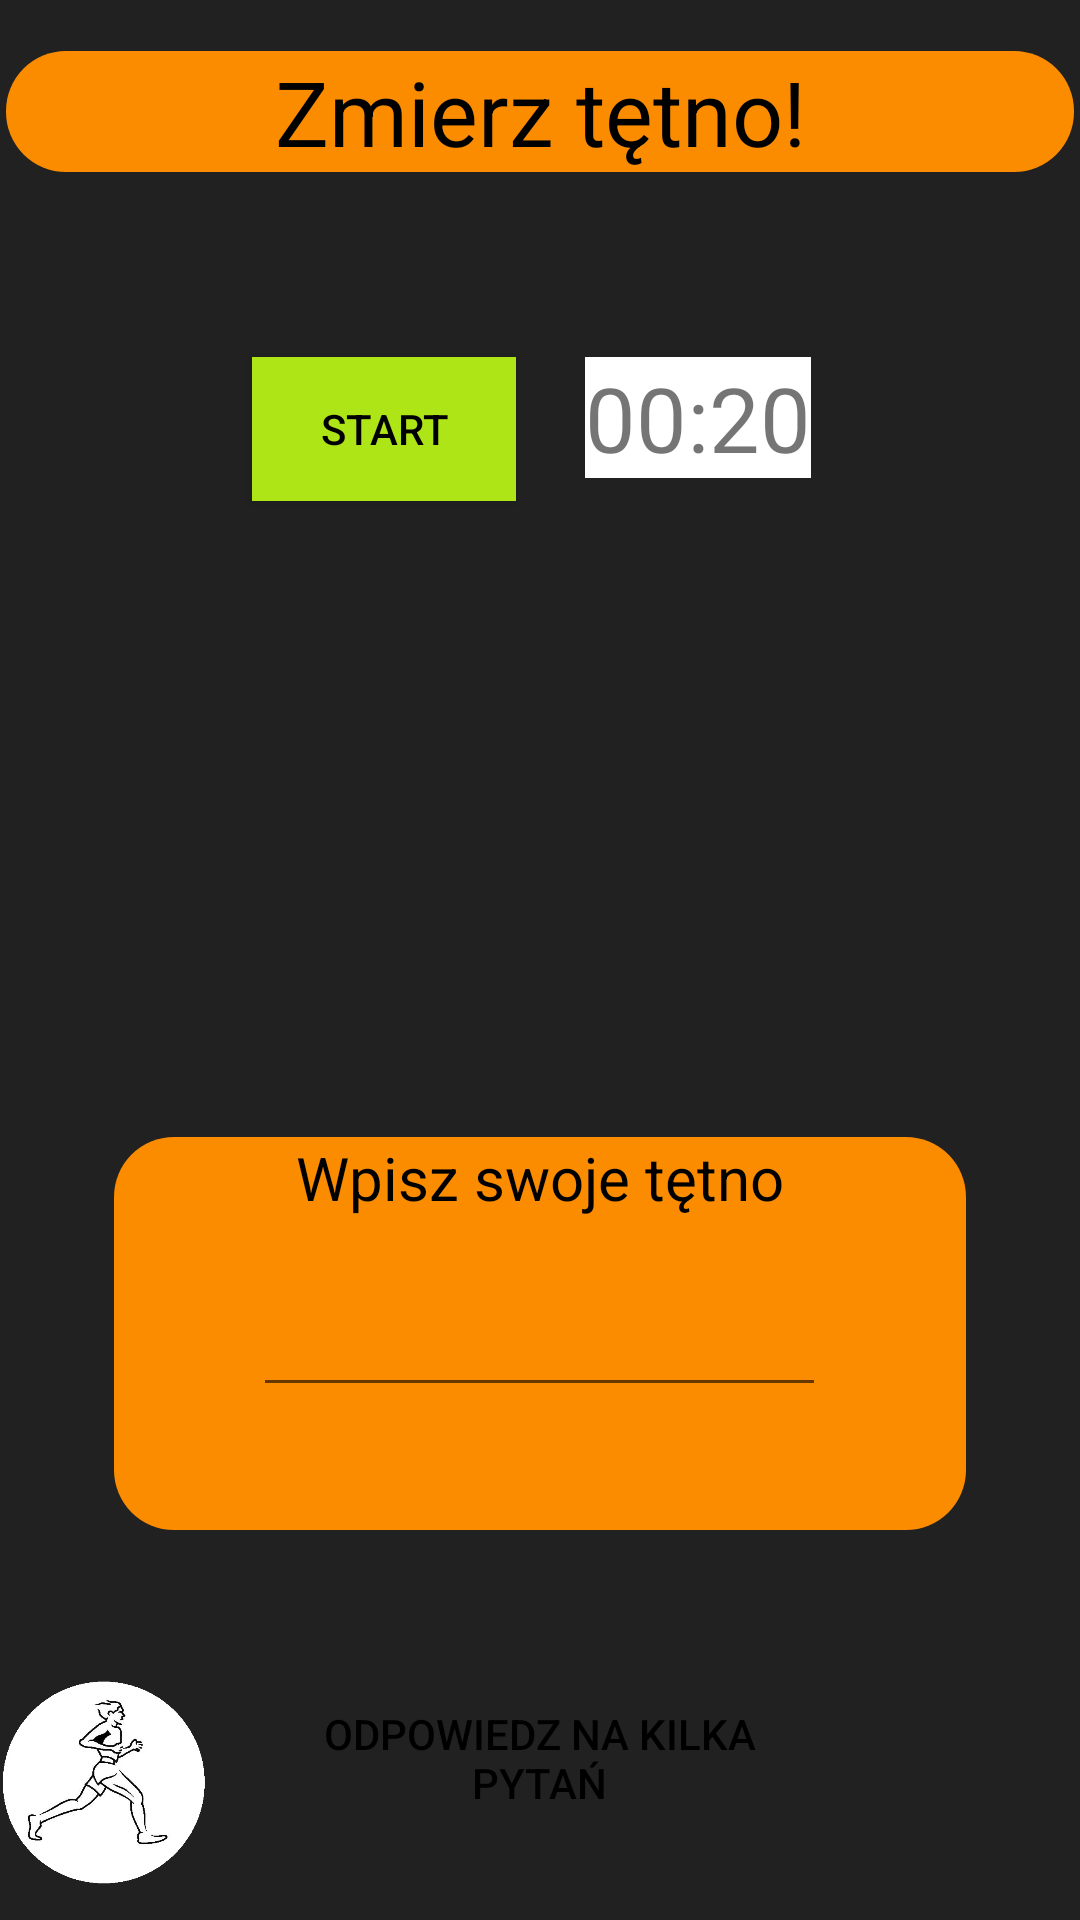

Icons on this 1080 x 1920 Android screen, each with its box as (x1, y1, x2, y2):
biegaczz: (3, 1681, 205, 1884)
